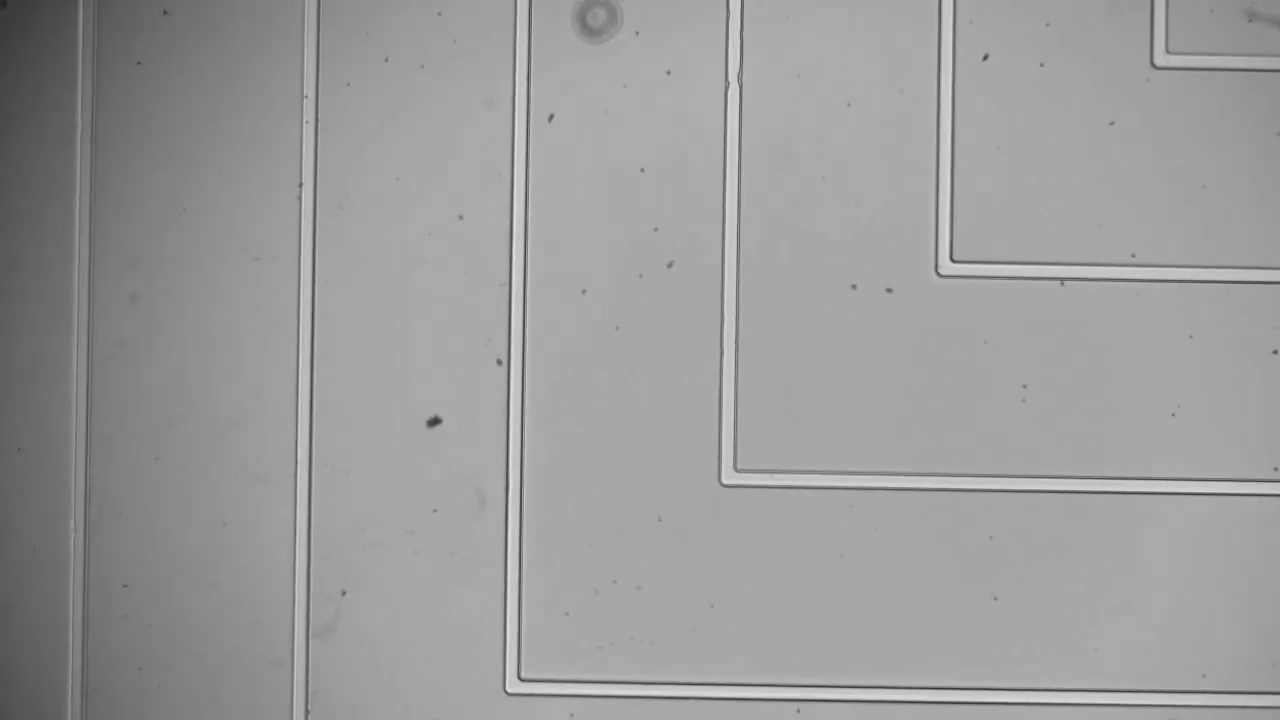edge_bite: (714, 59, 751, 95)
